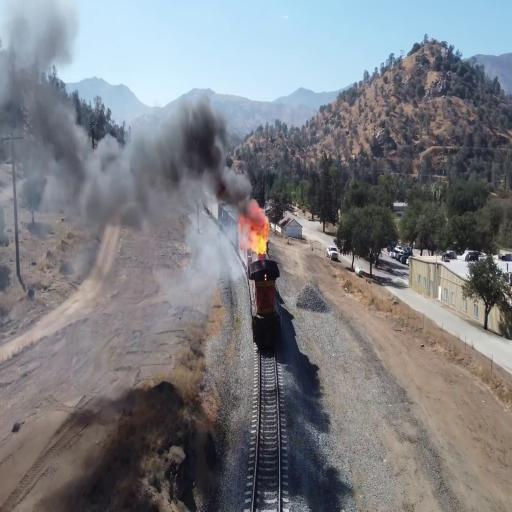fire: (241, 202, 271, 258)
smoke: (127, 116, 193, 220), (187, 88, 237, 178), (90, 140, 140, 219), (0, 0, 70, 56), (45, 95, 81, 191)
